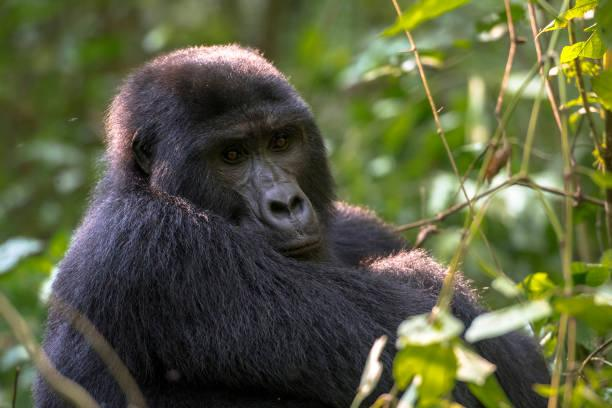goriile_montagne: (69, 36, 442, 407)
